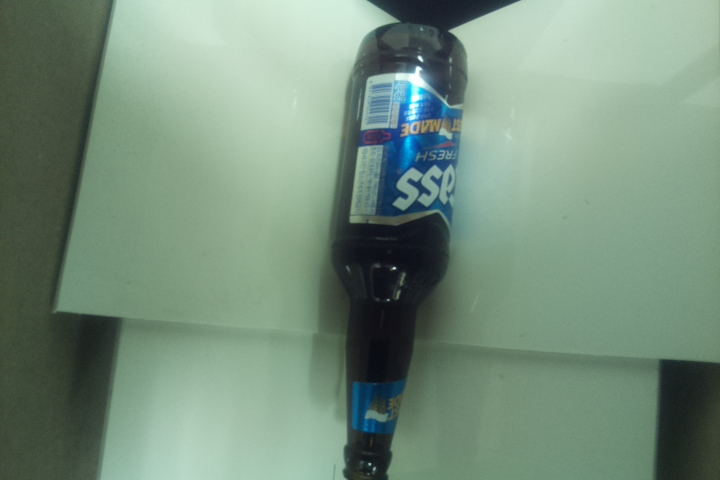makju: (325, 21, 470, 480)
